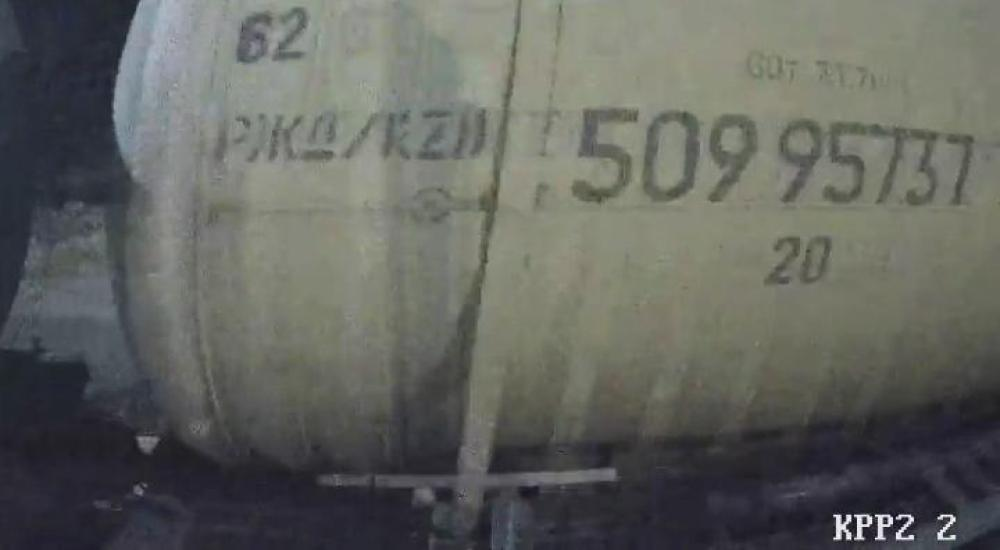Wagon-number: (564, 96, 980, 216)
